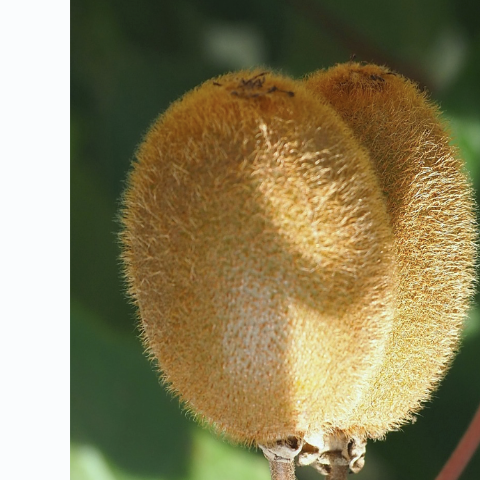kiwi: (118, 39, 396, 473)
